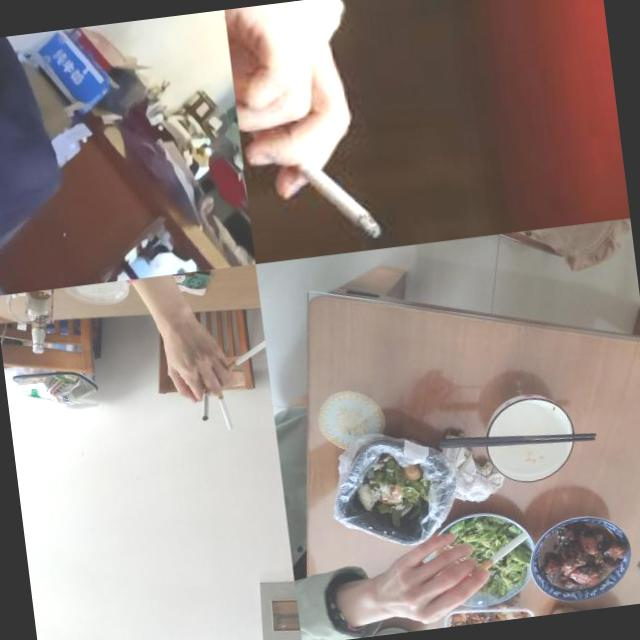cigarette: (266, 120, 381, 249), (466, 530, 530, 576), (220, 338, 268, 373), (214, 384, 234, 431), (197, 381, 214, 421)
